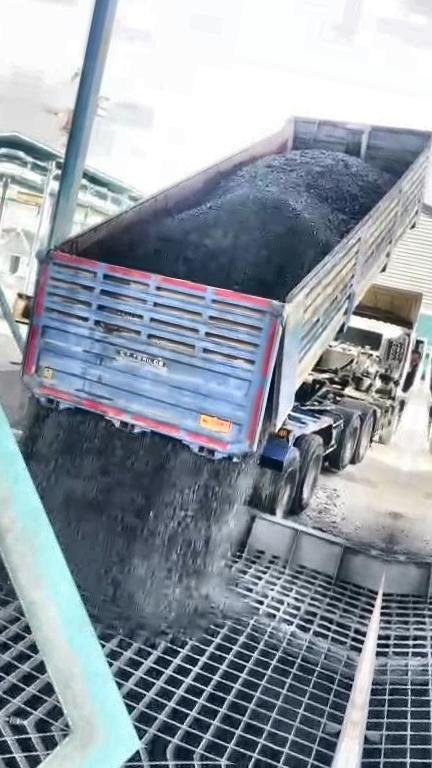gravel: (21, 409, 256, 635), (82, 150, 392, 299)
